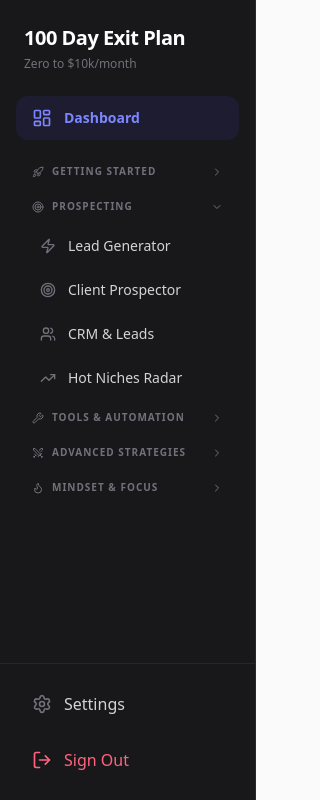
Scenario: Sidebar Component › expands and collapses categories
This screenshot has width=320, height=800.
Expected: the text "AI Agent Shortcut" is not shown
Note: Click to expand GETTING STARTED
Click the button "GETTING STARTED": coordinates (128, 172) [16,156,239,187]
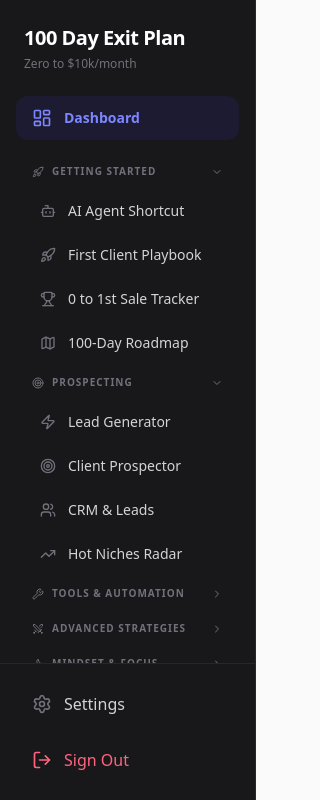
Expected: the text "AI Agent Shortcut" is shown, [68,201,184,221]
Note: Click again to collapse
Click the button "GETTING STARTED": coordinates (128, 172) [16,156,239,187]
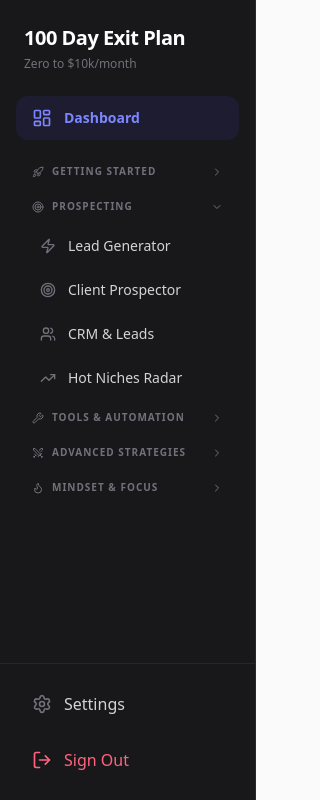
Expected: the button "AI Agent Shortcut" is gone
